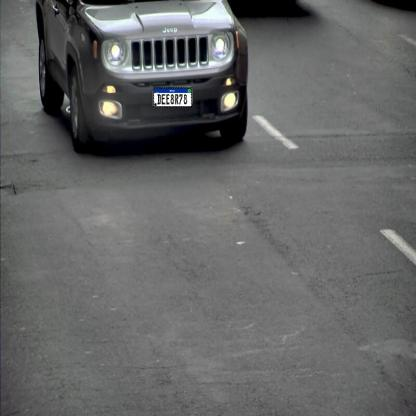PlacaM: (153, 88, 192, 108)
